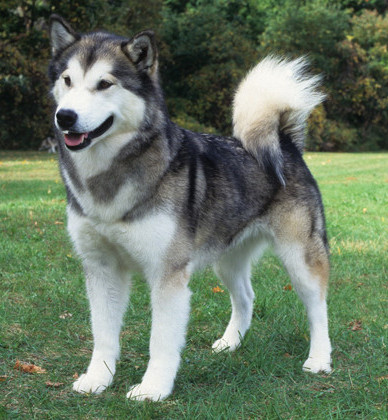dog: (0, 0, 388, 420)
